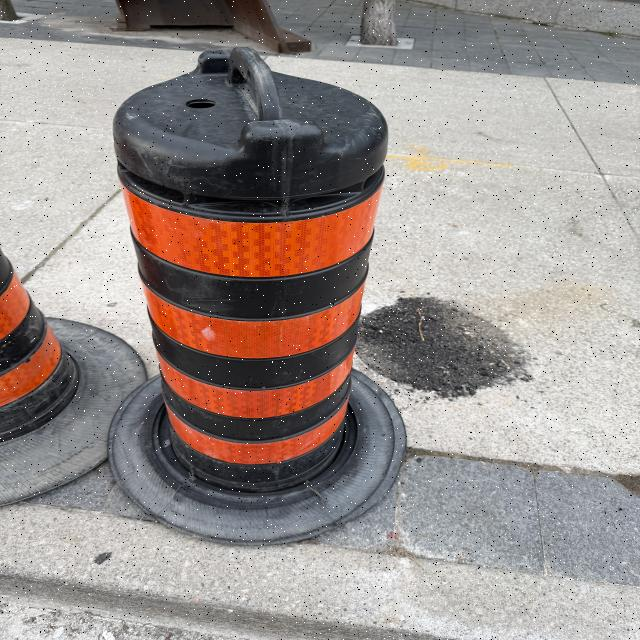Teraffic Barrel: (110, 47, 405, 544), (0, 252, 146, 504)
